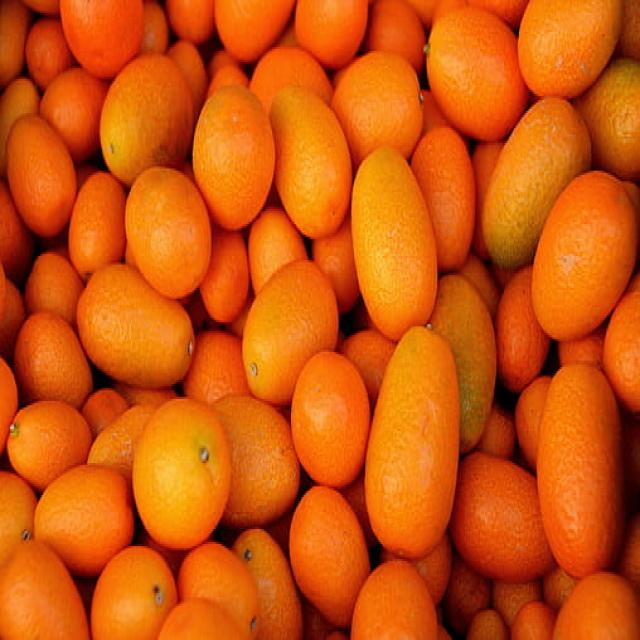orange: (474, 101, 598, 271), (528, 365, 624, 576), (371, 332, 450, 561), (346, 152, 434, 340), (424, 6, 531, 141), (534, 169, 624, 327), (78, 266, 185, 398), (38, 465, 148, 589), (134, 399, 226, 541), (247, 262, 342, 398), (99, 50, 196, 182), (128, 160, 212, 305), (288, 486, 369, 621), (195, 87, 272, 219), (329, 54, 424, 158), (515, 3, 624, 86), (298, 361, 372, 483), (4, 120, 82, 234), (179, 542, 259, 636), (20, 314, 84, 414), (293, 0, 369, 62)
